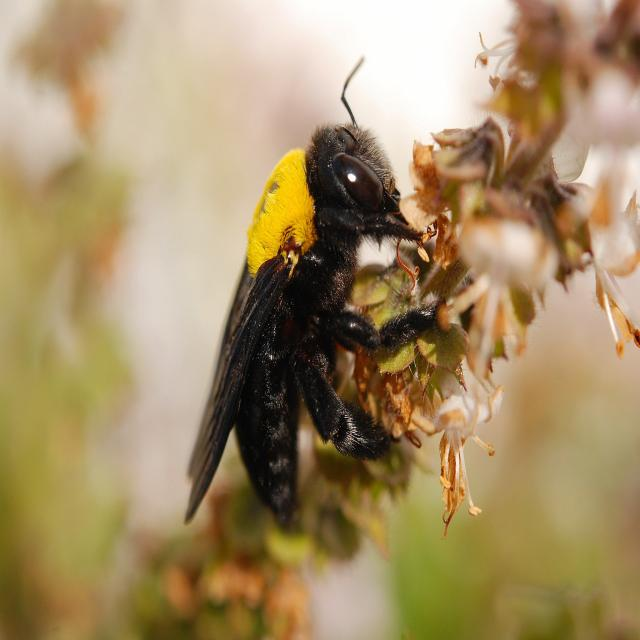Xylocopa: (170, 50, 429, 516)
